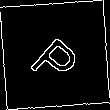P_NE: (24, 24, 86, 86)
